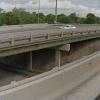Bridge: (2, 19, 100, 65)
